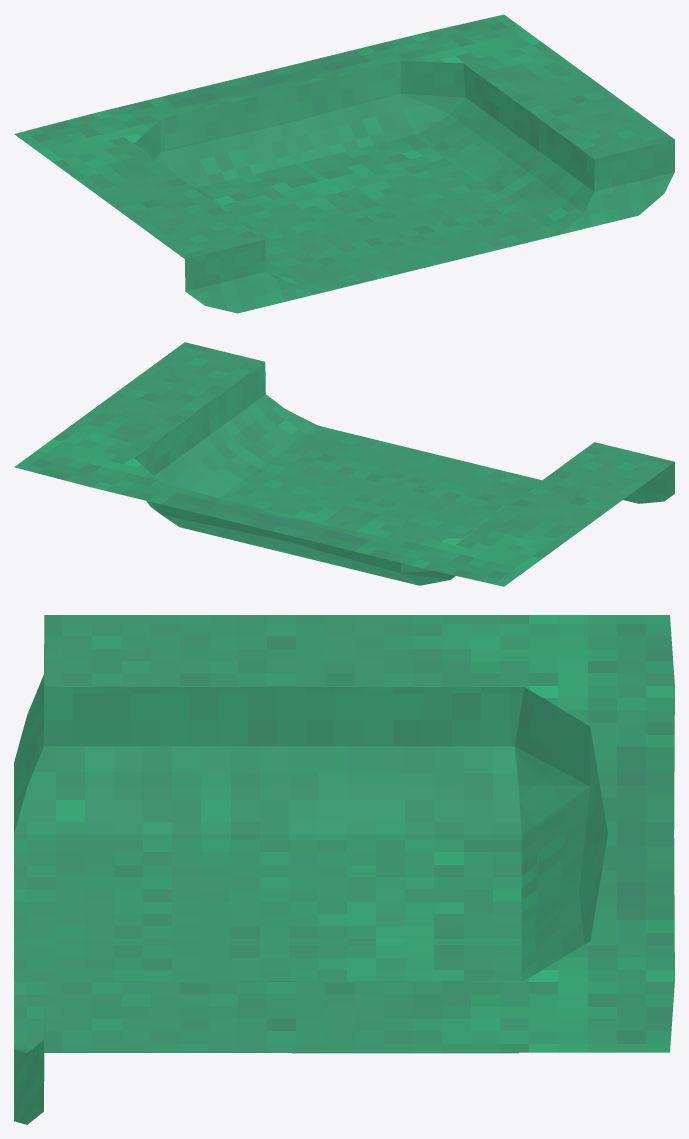
The model's file is table.glb.
3 renders of one model, top to bottom at view 1: azimuth 30°, elevation 25°; view 2: azimuth 150°, elevation 25°; view 3: azimuth 270°, elevation 25°, orthographic. The views are drawn at different scales.
Parts seen in each view (by area): view 1: Plane; view 2: Plane; view 3: Plane.
Boxes of the visible parts, x1=… form: Plane: x1=14, y1=14, x2=674, y2=313; Plane: x1=14, y1=342, x2=674, y2=586; Plane: x1=14, y1=615, x2=674, y2=1124.
Bounding box in the file's own units: 4.08 × 0.47 × 2.6.
Materials: 1 (1 with a texture image).
